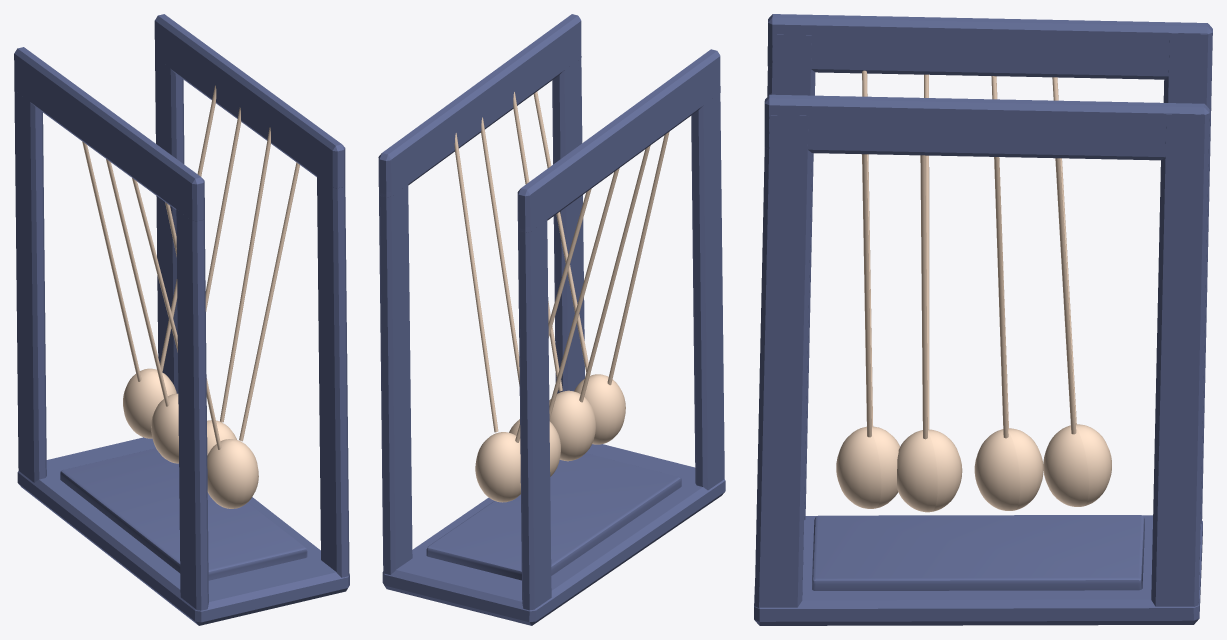
The model's file is Pendulo.glb.
3 views of the same model, side by side, from view 1: azimuth 30°, elevation 25°; view 2: azimuth 150°, elevation 25°; view 3: azimuth 270°, elevation 25° (orthographic). The views are drawn at different scales.
Parts seen in each view (by area): view 1: Escritorio_Pendulo; view 2: Escritorio_Pendulo; view 3: Escritorio_Pendulo.
Boxes of the visible parts, x1,y1,x2,y2 form: Escritorio_Pendulo: [14, 14, 349, 625]; Escritorio_Pendulo: [378, 14, 725, 625]; Escritorio_Pendulo: [754, 14, 1212, 625].
Bounding box in the file's own units: 0.0683 × 0.1828 × 0.1441.
